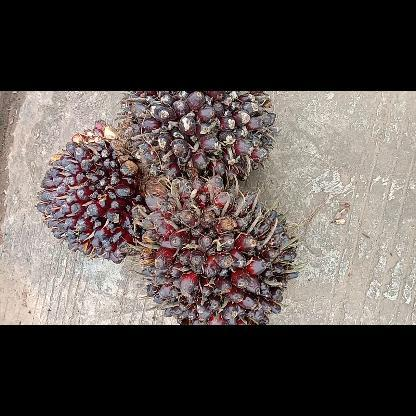TBS mentah: (139, 172, 303, 324), (34, 118, 172, 266), (115, 90, 278, 182)
